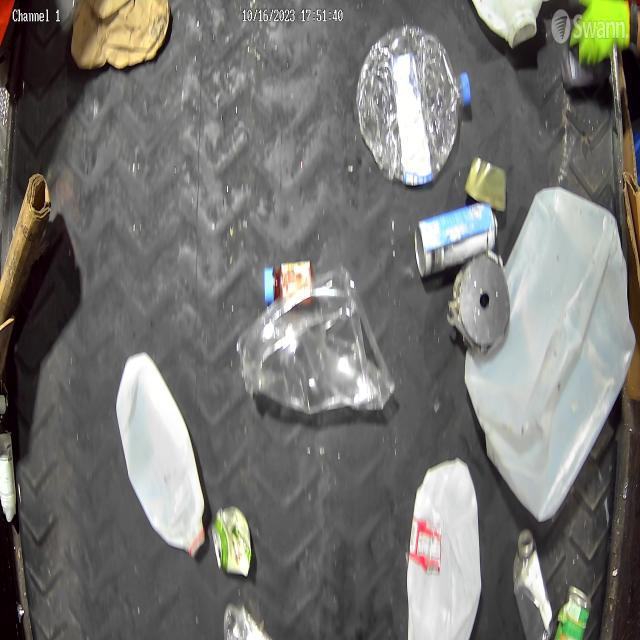can: (415, 202, 498, 278), (211, 504, 252, 580), (554, 585, 592, 640)
milk_jug: (464, 186, 635, 523), (116, 351, 206, 558), (405, 455, 482, 640)
plastic_bottle: (513, 531, 555, 640)
